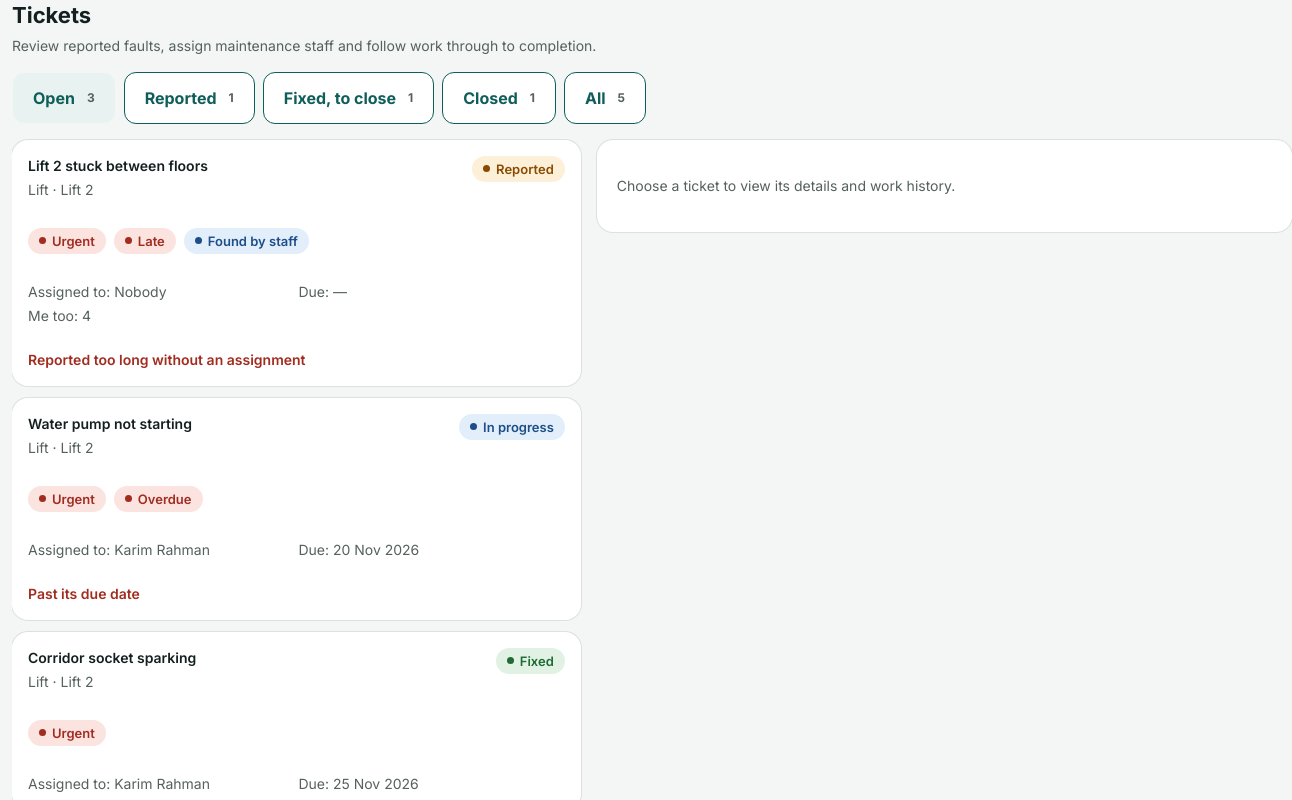
Test case: ManagerTickets › filters open, reported, fixed-to-close and closed tickets
The image size is (1292, 800).
Expected: the heading "Lift 2 stuck between floors" is shown, top-left (28, 156), bottom-right (208, 176)
Expected: the text "Old water leak" is not shown
Click the button "Reported 1" at x=189, y=98, box top-left (124, 72), bottom-right (255, 124)
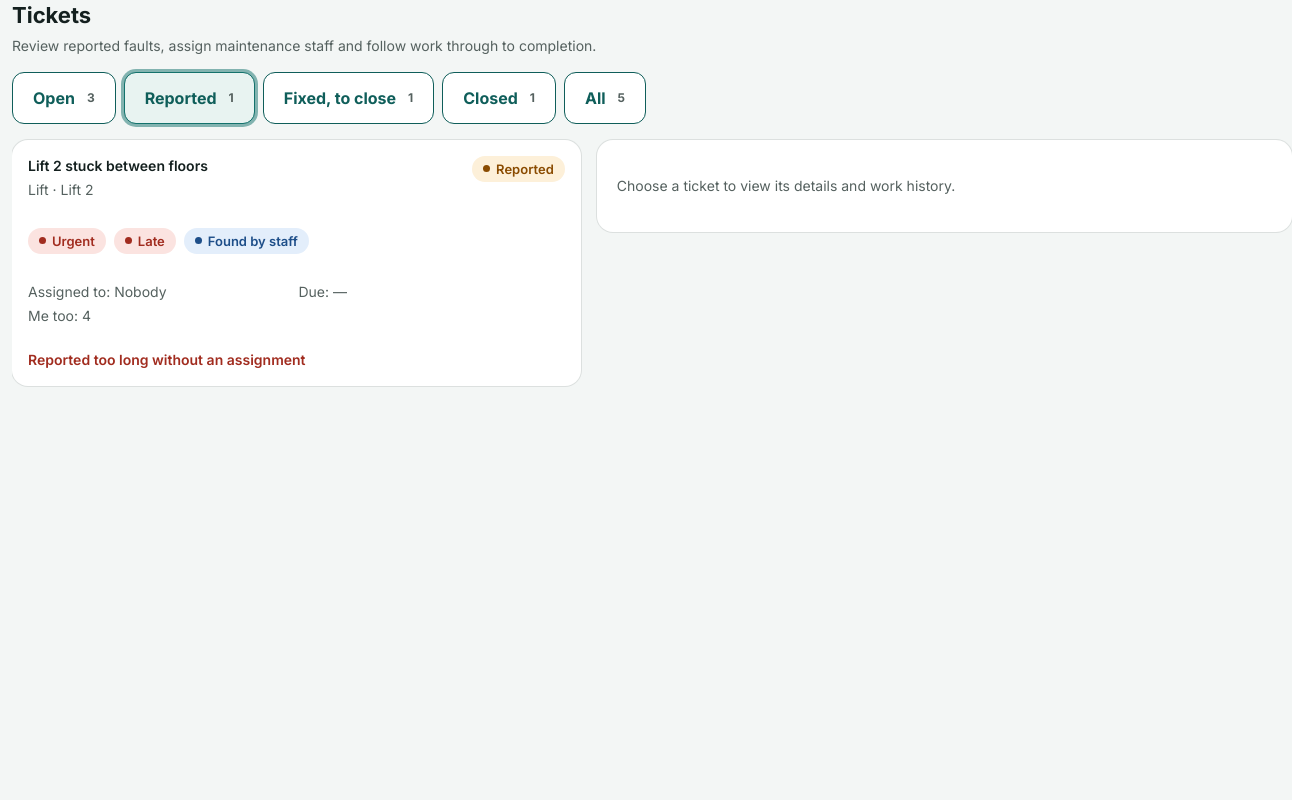
Expected: the heading "Lift 2 stuck between floors" is shown, top-left (28, 156), bottom-right (208, 176)
Expected: the link "Water pump not starting" is gone
Click the button "Fixed, to close 1" at x=348, y=98, box top-left (263, 72), bottom-right (434, 124)
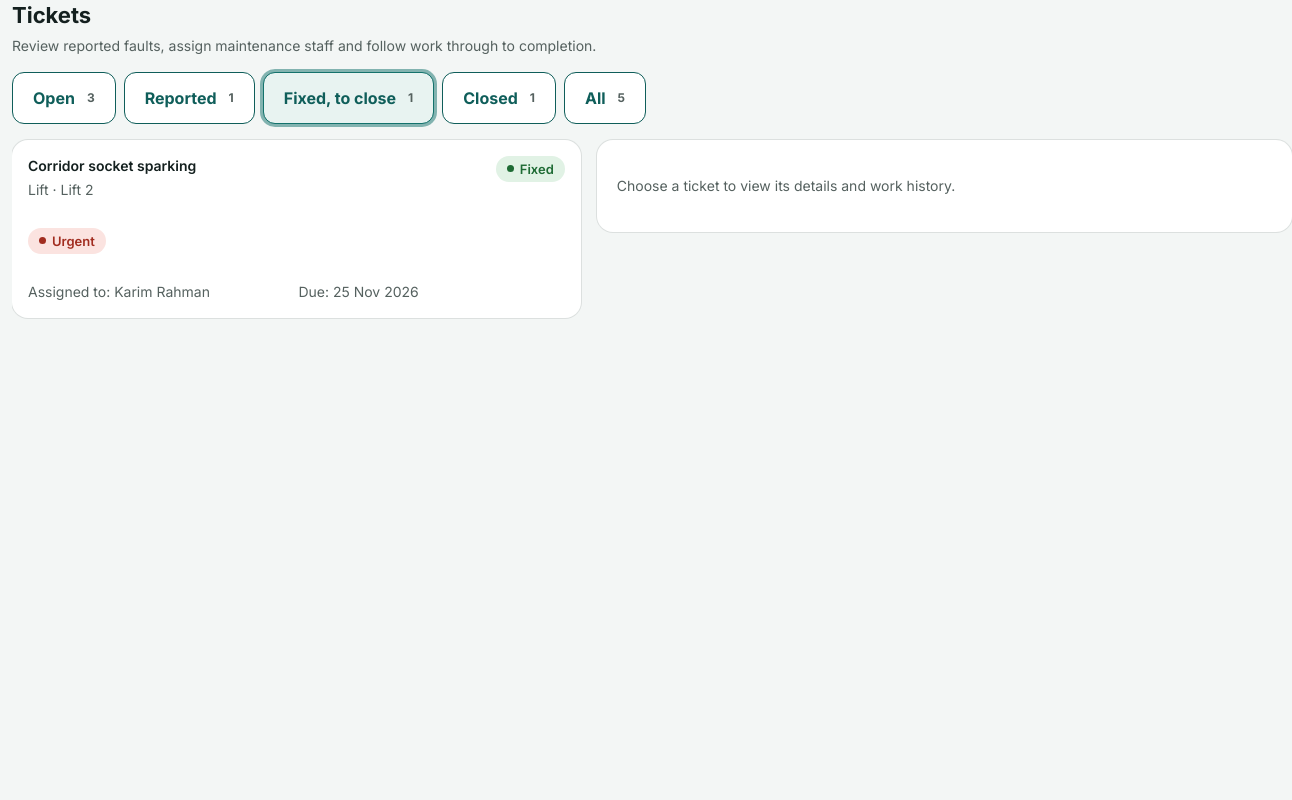
Expected: the heading "Corridor socket sparking" is shown, top-left (28, 156), bottom-right (196, 176)
Expected: the link "Lift 2 stuck between floors" is gone
Click the button "Closed 1" at x=499, y=98, box top-left (442, 72), bottom-right (556, 124)
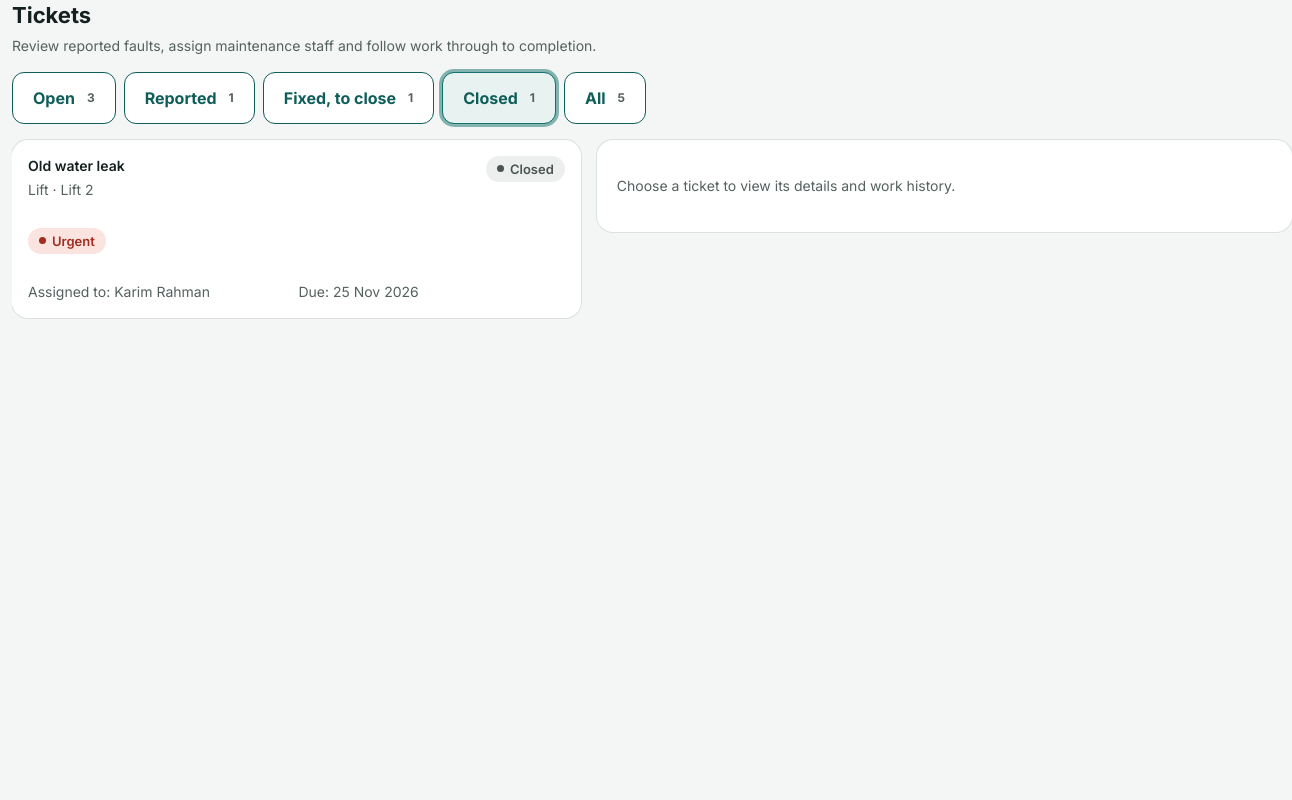
Expected: the heading "Old water leak" is shown, top-left (28, 156), bottom-right (125, 176)
Expected: the link "Corridor socket sparking" is gone
Click the button "All 5" at x=605, y=98, box top-left (564, 72), bottom-right (646, 124)
(page scrolled)
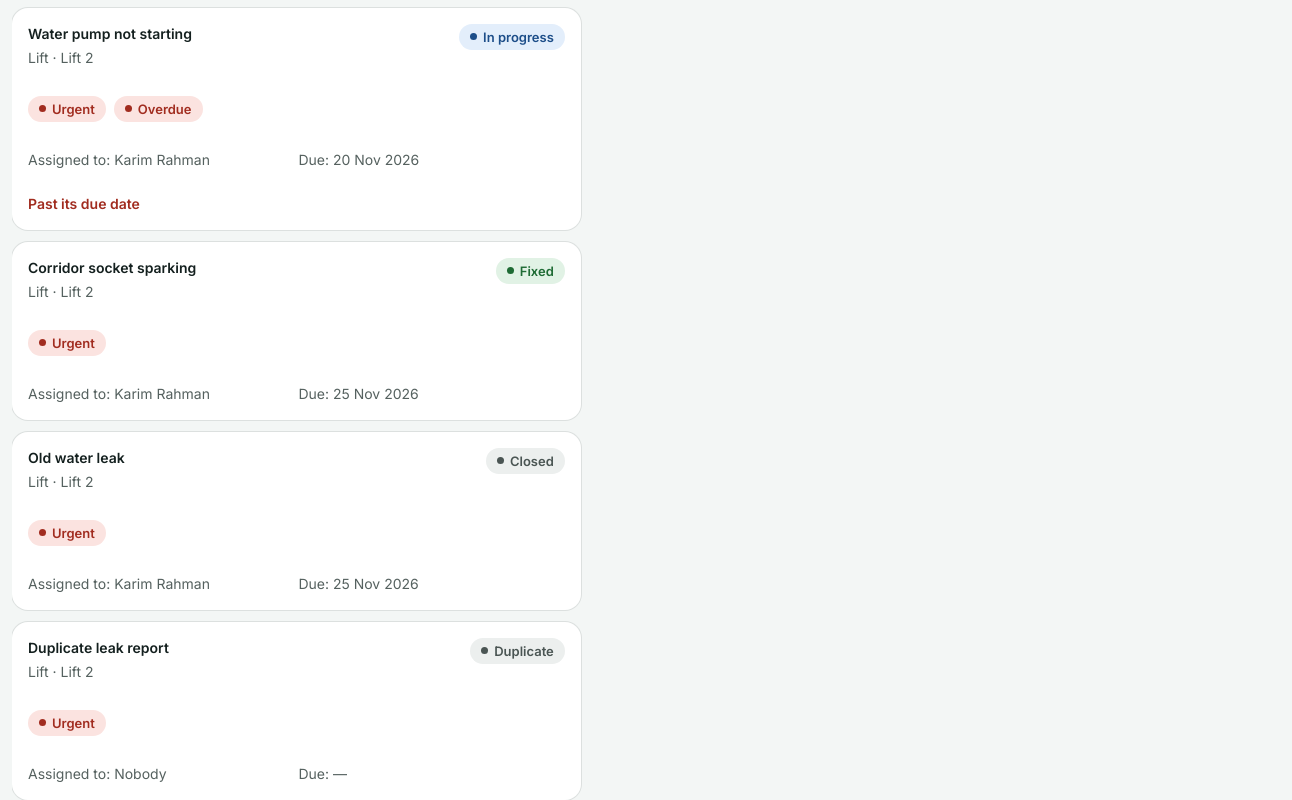
Expected: the heading "Duplicate leak report" is shown, top-left (28, 638), bottom-right (169, 658)
